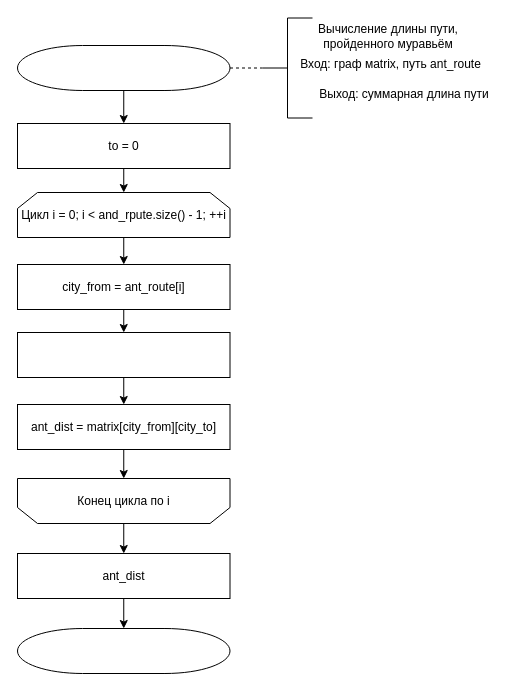
The diagram is 519 pixels wide and 691 high, and some of its shapes have lost their labels. The shapes that lost their labels are listed below. From the top down, each one's centre as x and y in pixels, then its label:
the point at 123,67: Начало
the point at 123,355: city_to = and_route[i + 1]
the point at 123,651: Конец
